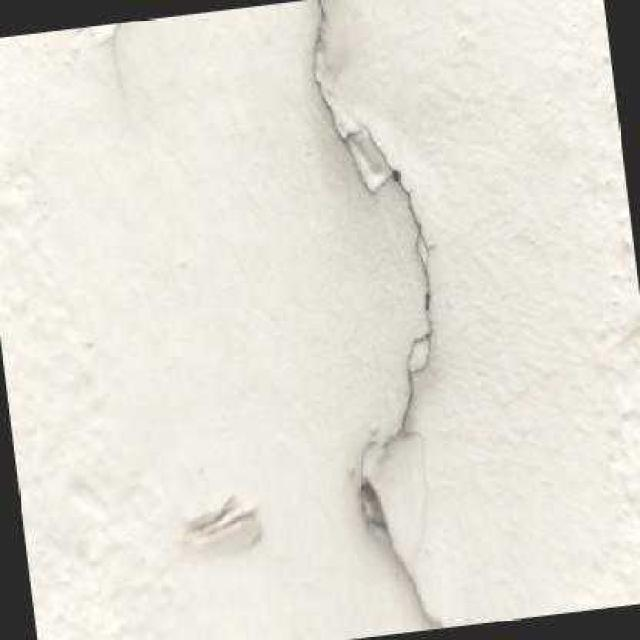D00: (308, 0, 446, 629)
